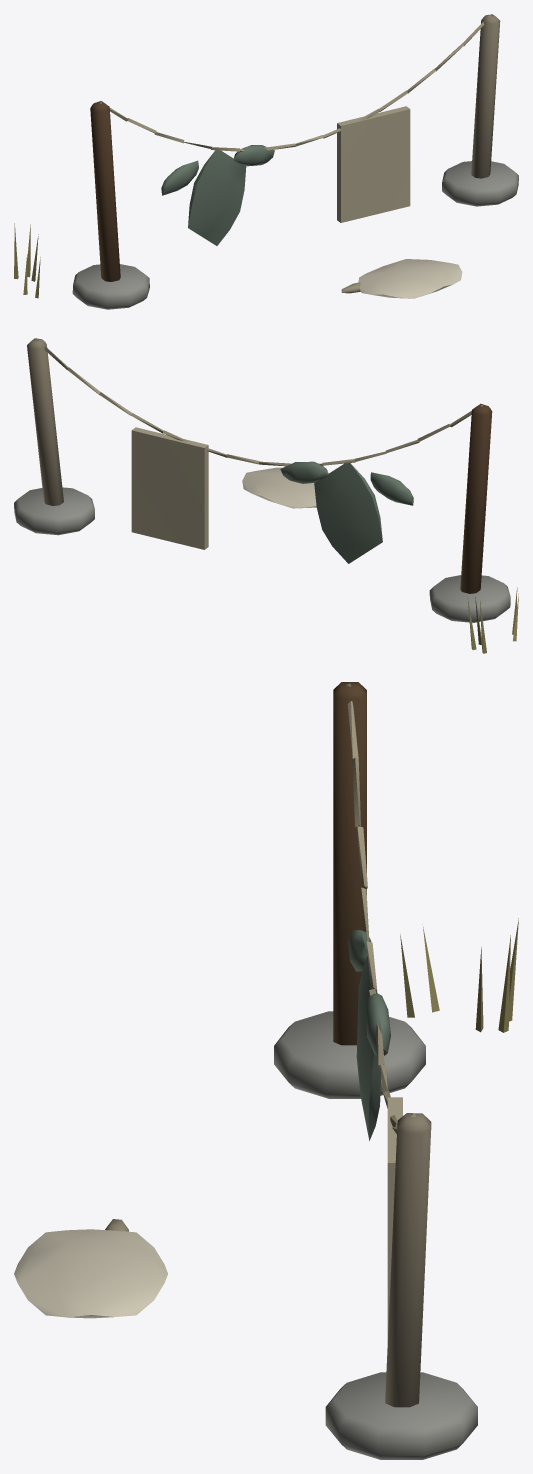
File: laundry_line_b_lod1.glb
The picture shows the model from 3 angles, top to bottom: view 1: azimuth 30°, elevation 25°; view 2: azimuth 150°, elevation 25°; view 3: azimuth 270°, elevation 25°; orthographic projection. The views are drawn at different scales.
Visible parts, largest first — view 1: Surface.001; view 2: Surface.001; view 3: Surface.001.
Boxes of the visible parts, left/top/right/bottom form: Surface.001: left=14, top=14, right=518, bottom=309; Surface.001: left=14, top=338, right=518, bottom=653; Surface.001: left=14, top=682, right=518, bottom=1459.
Size of the model in its own units: 4.77 by 1.86 by 2.24.
